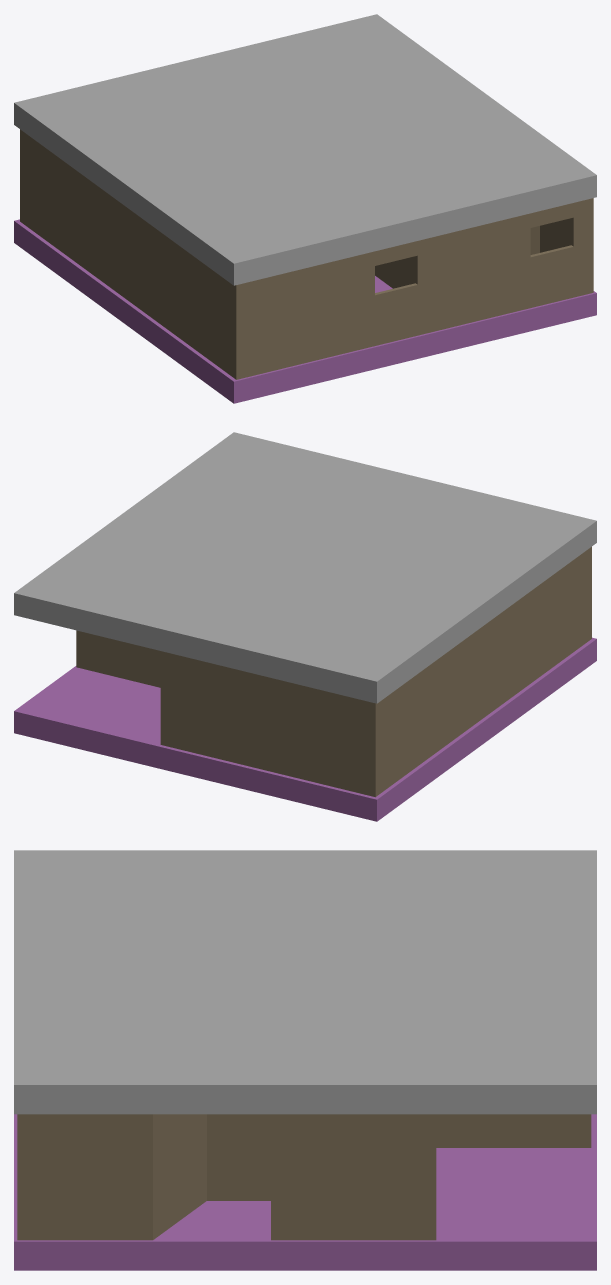
Rendered from room_01.fbx.
3 views of the same model, one above another, from view 1: azimuth 30°, elevation 25°; view 2: azimuth 150°, elevation 25°; view 3: azimuth 270°, elevation 25° (orthographic). The views are drawn at different scales.
Parts seen in each view (by area): view 1: ceiling_01, walls_01, floor_01; view 2: ceiling_01, walls_01, floor_01; view 3: ceiling_01, walls_01, floor_01.
Boxes of the visible parts, box(x1,y1,x2,y2) form: ceiling_01: box(14, 14, 596, 285); walls_01: box(20, 129, 593, 379); floor_01: box(14, 219, 596, 403); ceiling_01: box(14, 432, 596, 703); walls_01: box(76, 546, 591, 797); floor_01: box(14, 637, 596, 821); ceiling_01: box(14, 850, 596, 1114); walls_01: box(17, 1114, 591, 1240); floor_01: box(14, 1114, 596, 1270).
Bounding box in the file's own units: 9.54 × 3.52 × 10.01.
